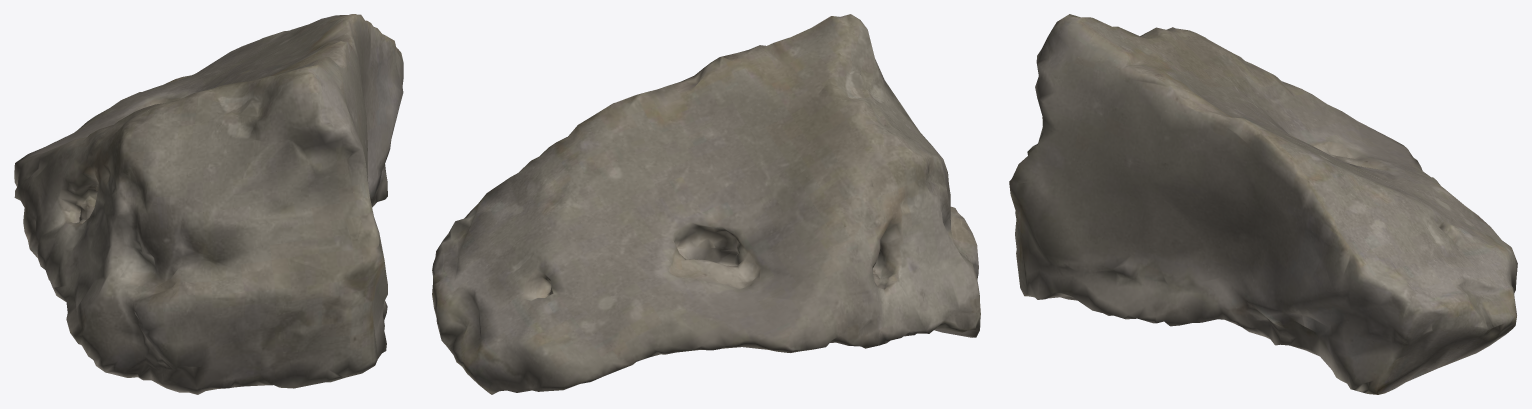
File: moon_rock_06.glb
3 renders of one model, left to right at view 1: azimuth 30°, elevation 25°; view 2: azimuth 150°, elevation 25°; view 3: azimuth 270°, elevation 25°, orthographic. The views are drawn at different scales.
Parts seen in each view (by area): view 1: moon_rock_06_LOD0; view 2: moon_rock_06_LOD0; view 3: moon_rock_06_LOD0.
Boxes of the visible parts, x1,y1,x2,y2 form: moon_rock_06_LOD0: [14, 14, 403, 394]; moon_rock_06_LOD0: [432, 14, 980, 394]; moon_rock_06_LOD0: [1009, 14, 1517, 394].
Bounding box in the file's own units: 0.0857 × 0.055 × 0.0918.
1 material, 1 textured.
